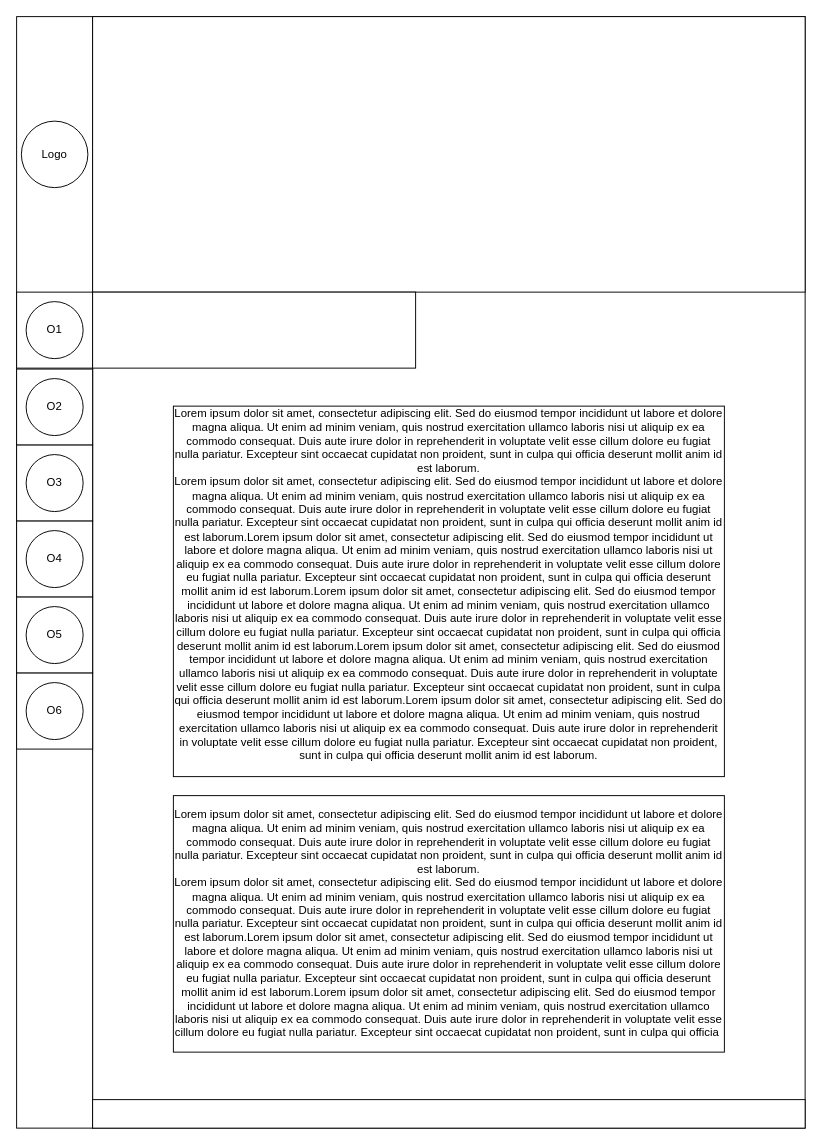
This 822x1145 diagram has some shape labels left out. Each missing label, with the box of its shape:
Footer: (92, 1099, 805, 1128)
Header: (92, 16, 805, 292)
Opción 1: (92, 291, 416, 368)
